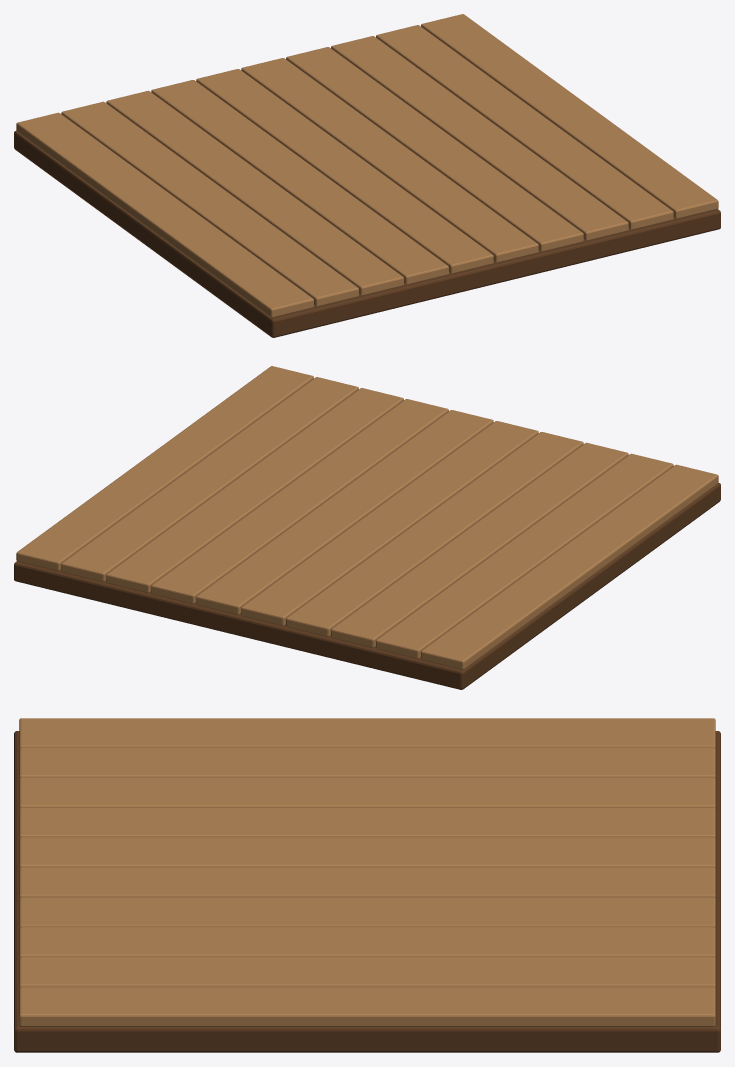
File: floor_4x4.glb
3 renders of one model, top to bottom at view 1: azimuth 30°, elevation 25°; view 2: azimuth 150°, elevation 25°; view 3: azimuth 270°, elevation 25°, orthographic. The views are drawn at different scales.
Parts seen in each view (by area): view 1: floor_backing, floor_board_01, floor_board_08, floor_board_09, floor_board_10, floor_board_06, floor_board_07, floor_board_03, floor_board_02, floor_board_05, floor_board_04; view 2: floor_backing, floor_board_01, floor_board_08, floor_board_09, floor_board_10, floor_board_06, floor_board_07, floor_board_03, floor_board_02, floor_board_05, floor_board_04; view 3: floor_board_10, floor_backing, floor_board_07, floor_board_08, floor_board_06, floor_board_04, floor_board_05, floor_board_01, floor_board_02, floor_board_09, floor_board_03.
Part boxes in pixels (left/top/right/bottom): floor_backing: left=14, top=130, right=720, bottom=337; floor_board_01: left=16, top=112, right=313, bottom=317; floor_board_08: left=331, top=36, right=628, bottom=241; floor_board_09: left=376, top=25, right=673, bottom=230; floor_board_10: left=421, top=14, right=718, bottom=219; floor_board_06: left=241, top=58, right=538, bottom=262; floor_board_07: left=286, top=47, right=583, bottom=251; floor_board_03: left=106, top=90, right=403, bottom=295; floor_board_02: left=61, top=101, right=358, bottom=306; floor_board_05: left=196, top=69, right=493, bottom=273; floor_board_04: left=151, top=80, right=448, bottom=284; floor_backing: left=14, top=482, right=720, bottom=689; floor_board_01: left=421, top=464, right=718, bottom=669; floor_board_08: left=106, top=388, right=403, bottom=593; floor_board_09: left=61, top=377, right=358, bottom=582; floor_board_10: left=16, top=366, right=313, bottom=571; floor_board_06: left=196, top=410, right=493, bottom=614; floor_board_07: left=151, top=399, right=448, bottom=603; floor_board_03: left=331, top=442, right=628, bottom=647; floor_board_02: left=376, top=453, right=673, bottom=658; floor_board_05: left=241, top=421, right=538, bottom=625; floor_board_04: left=286, top=432, right=583, bottom=636; floor_board_10: left=19, top=987, right=715, bottom=1026; floor_backing: left=14, top=731, right=720, bottom=1052; floor_board_07: left=19, top=897, right=715, bottom=928; floor_board_08: left=19, top=927, right=715, bottom=958; floor_board_06: left=19, top=867, right=715, bottom=898; floor_board_04: left=19, top=807, right=715, bottom=838; floor_board_05: left=19, top=837, right=715, bottom=868; floor_board_01: left=19, top=718, right=715, bottom=749; floor_board_02: left=19, top=748, right=715, bottom=779; floor_board_09: left=19, top=957, right=715, bottom=988; floor_board_03: left=19, top=778, right=715, bottom=808.
Size of the model in its own units: 4 by 0.24 by 4.
